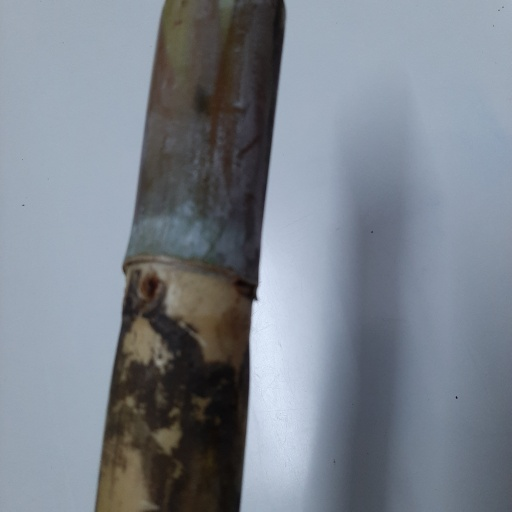Damage_Bud: (140, 265, 160, 298)
